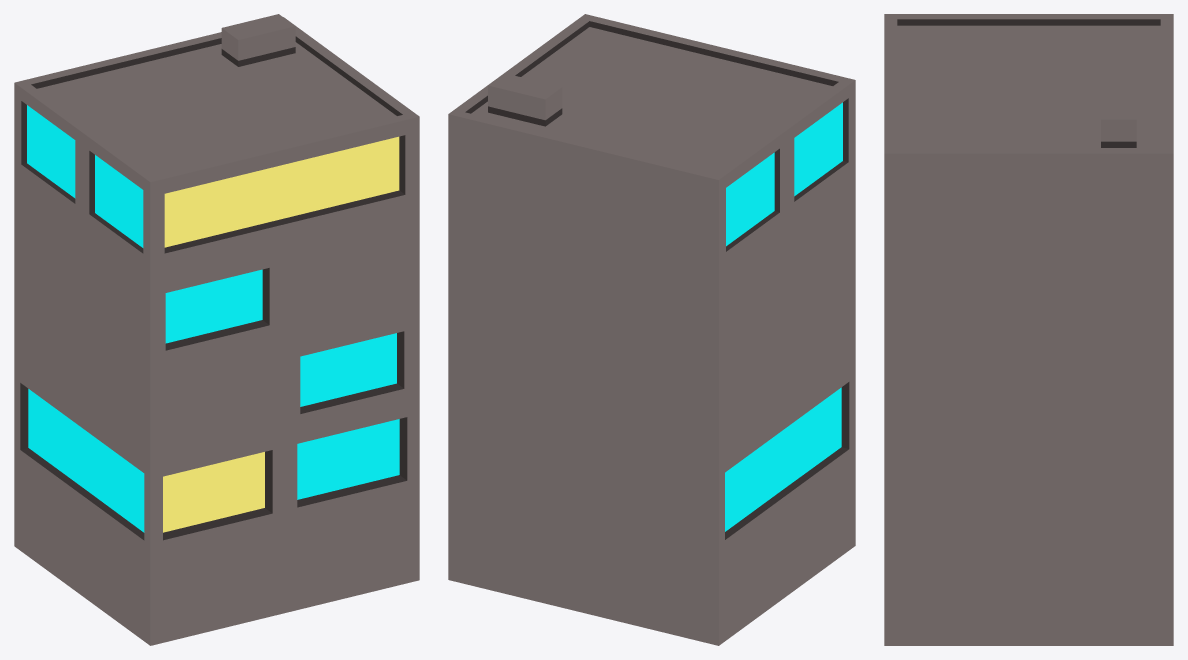
File: Edificio2.glb
3 views of the same model, side by side, from view 1: azimuth 30°, elevation 25°; view 2: azimuth 150°, elevation 25°; view 3: azimuth 270°, elevation 25° (orthographic). The views are drawn at different scales.
Parts seen in each view (by area): view 1: Edificio2; view 2: Edificio2; view 3: Edificio2.
Boxes of the visible parts, x1,y1,x2,y2 form: Edificio2: (14, 14, 419, 645); Edificio2: (448, 14, 855, 645); Edificio2: (884, 14, 1173, 645).
Size of the model in its own units: 32.24 by 55.46 by 28.25.
